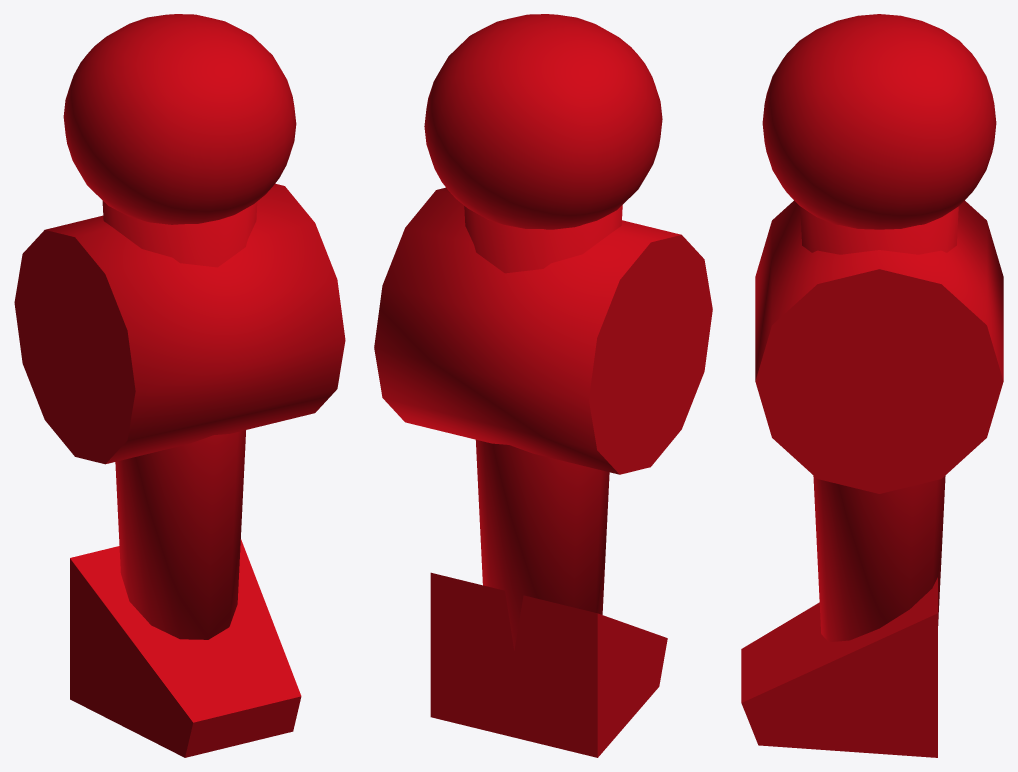
The model's file is decoy2.obj.
3 renders of one model, left to right at view 1: azimuth 30°, elevation 25°; view 2: azimuth 150°, elevation 25°; view 3: azimuth 270°, elevation 25°, orthographic. The views are drawn at different scales.
Parts seen in each view (by area): view 1: Torso_Cylinder.002, Head_Cube.001, Foot_Cube, Body_Cone.001; view 2: Torso_Cylinder.002, Head_Cube.001, Foot_Cube, Body_Cone.001; view 3: Torso_Cylinder.002, Head_Cube.001, Foot_Cube, Body_Cone.001.
Part boxes in pixels (bbox=[...]): Torso_Cylinder.002: bbox=[14, 183, 345, 464]; Head_Cube.001: bbox=[63, 14, 296, 224]; Foot_Cube: bbox=[70, 539, 301, 757]; Body_Cone.001: bbox=[102, 201, 257, 639]; Torso_Cylinder.002: bbox=[374, 187, 712, 474]; Head_Cube.001: bbox=[424, 14, 662, 229]; Foot_Cube: bbox=[430, 572, 667, 757]; Body_Cone.001: bbox=[464, 205, 622, 650]; Torso_Cylinder.002: bbox=[755, 200, 1003, 493]; Head_Cube.001: bbox=[762, 14, 996, 229]; Foot_Cube: bbox=[741, 577, 937, 757]; Body_Cone.001: bbox=[800, 206, 958, 642].
Bounding box in the file's own units: 1.8 × 5.53 × 1.9.
